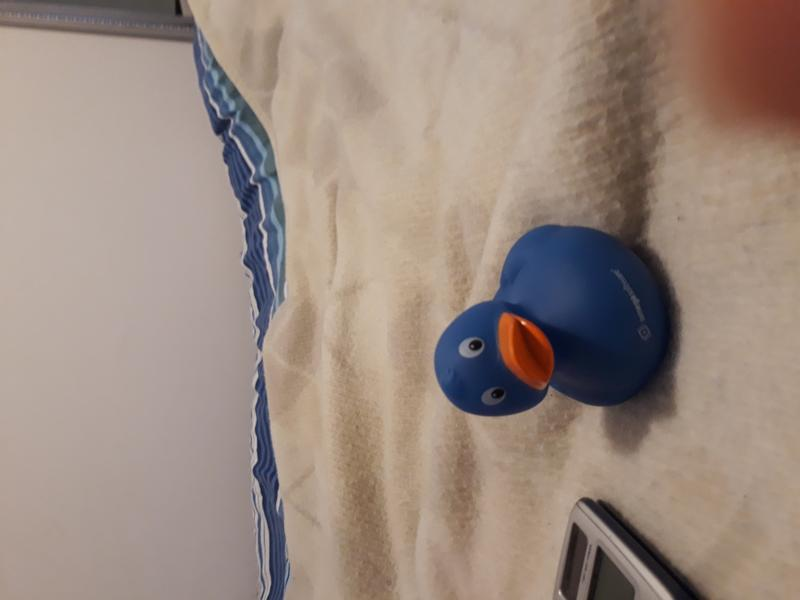plava_patkica: (417, 231, 680, 423)
